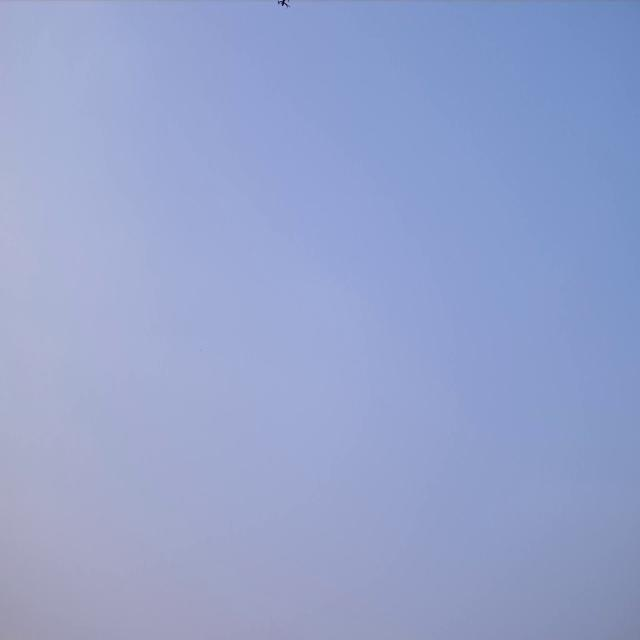UAV: (276, 0, 292, 10)
